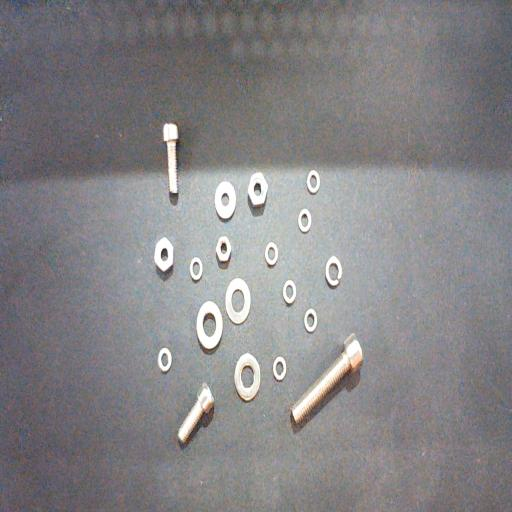nut: (154, 236, 174, 274), (247, 172, 268, 207), (216, 236, 232, 263)
screw: (290, 333, 363, 424), (178, 383, 214, 444), (163, 122, 179, 195)
washer: (224, 277, 252, 325), (196, 301, 223, 349), (234, 353, 261, 401), (214, 181, 236, 220), (325, 256, 342, 287), (157, 347, 172, 373), (189, 256, 203, 282), (283, 279, 297, 305), (298, 208, 311, 234), (273, 356, 286, 382), (307, 170, 321, 194), (304, 308, 317, 333), (265, 242, 278, 266)
